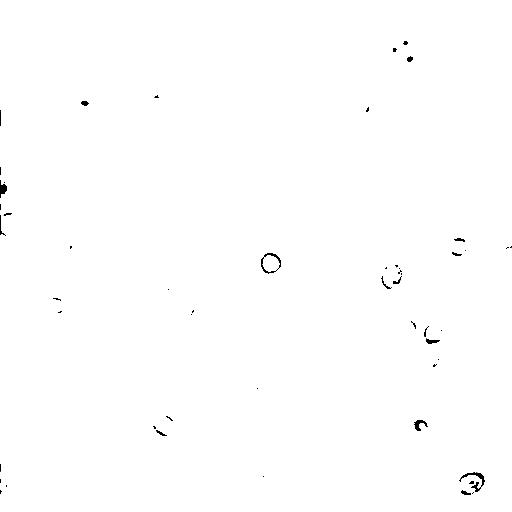micro-algae: (24, 98, 93, 167), (379, 24, 415, 65), (297, 0, 345, 30), (166, 461, 196, 500), (251, 455, 281, 489), (415, 339, 450, 368), (98, 56, 129, 88), (393, 45, 425, 75), (60, 229, 90, 260), (455, 470, 488, 497), (67, 89, 99, 116), (138, 232, 168, 257), (161, 285, 189, 311), (59, 274, 85, 301), (380, 263, 404, 292), (259, 250, 284, 276), (151, 413, 177, 437), (248, 328, 268, 356), (423, 322, 447, 345), (1, 212, 23, 237), (351, 91, 372, 117), (188, 307, 210, 329), (447, 237, 470, 258), (0, 174, 16, 203), (42, 296, 66, 315), (245, 371, 267, 391), (499, 242, 512, 274), (399, 318, 417, 341), (423, 352, 442, 370), (413, 416, 431, 434), (1, 464, 12, 493), (388, 1, 406, 5)
